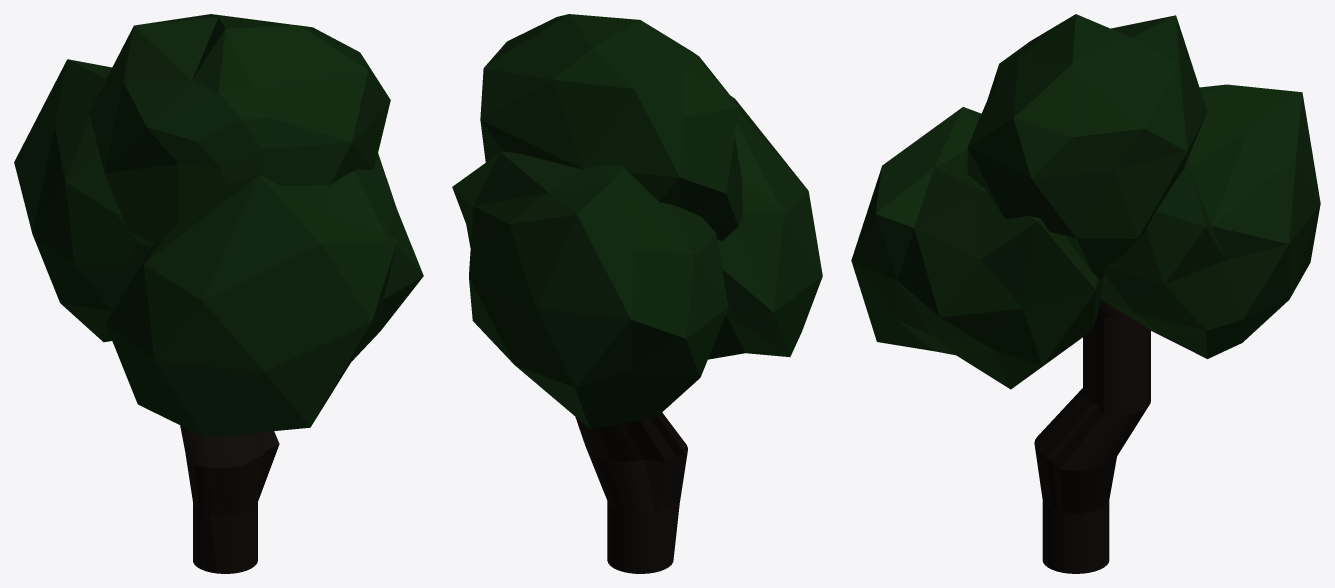
File: tree1.obj
3 views of the same model, side by side, from view 1: azimuth 30°, elevation 25°; view 2: azimuth 150°, elevation 25°; view 3: azimuth 270°, elevation 25° (orthographic). The views are drawn at different scales.
Parts seen in each view (by area): view 1: Cylinder.001_Cylinder.002; view 2: Cylinder.001_Cylinder.002; view 3: Cylinder.001_Cylinder.002.
Part boxes in pixels (x1,y1,x2,y2): Cylinder.001_Cylinder.002: (14,14,423,573); Cylinder.001_Cylinder.002: (452,14,822,573); Cylinder.001_Cylinder.002: (851,14,1320,573).
Bounding box in the file's own units: 2.71 × 5.11 × 3.98.
